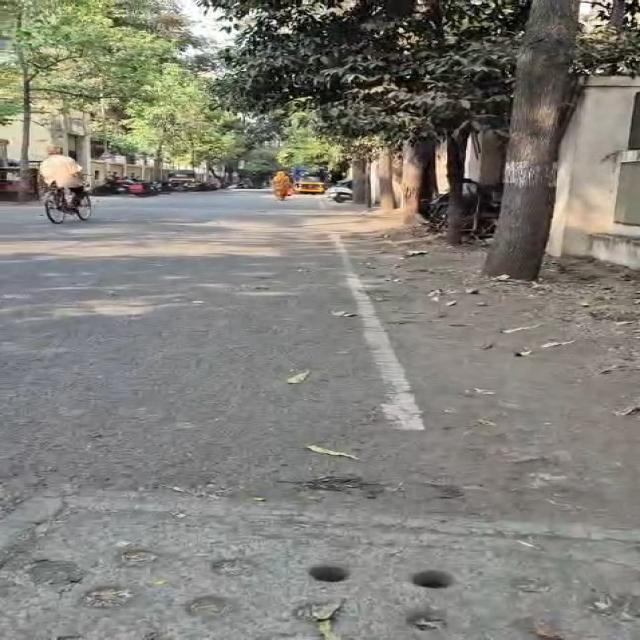person: (39, 147, 84, 208), (272, 171, 291, 200)
tree_trunk: (485, 0, 579, 280), (15, 45, 33, 201), (446, 129, 468, 244), (402, 140, 423, 223), (19, 76, 32, 201), (378, 147, 396, 211), (421, 138, 437, 203), (353, 159, 368, 204), (393, 150, 403, 207), (610, 0, 626, 30), (154, 141, 163, 181)
